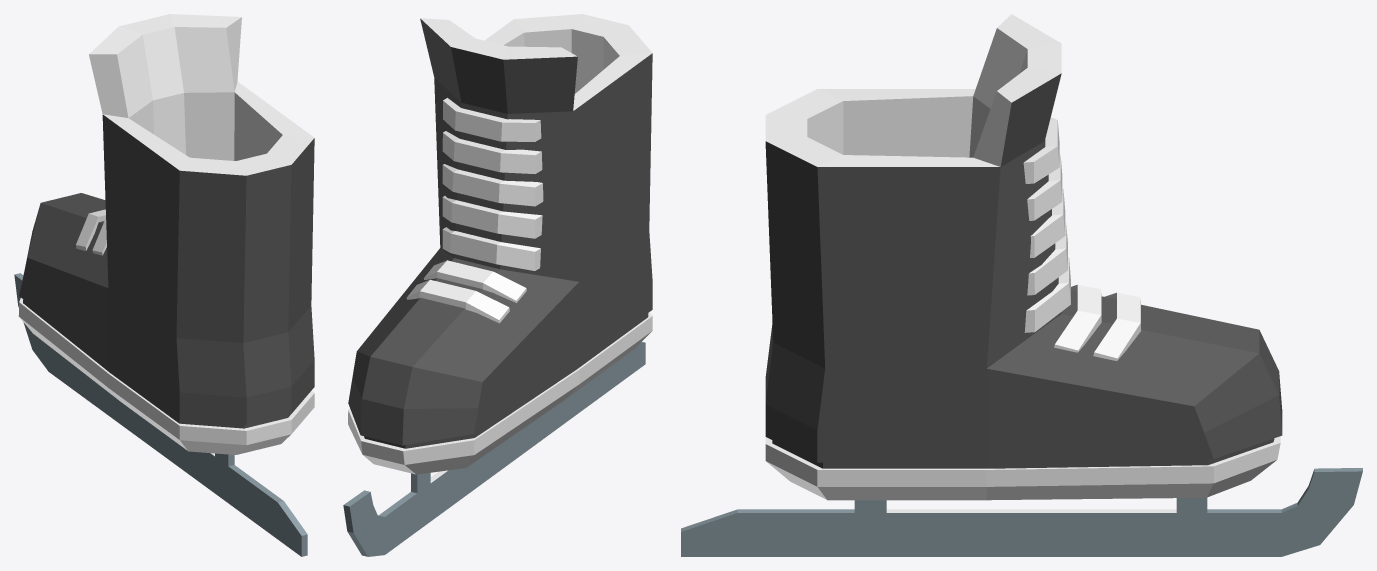
The model's file is Ice skate.glb.
The picture shows the model from 3 angles, left to right: view 1: azimuth 30°, elevation 25°; view 2: azimuth 150°, elevation 25°; view 3: azimuth 270°, elevation 25°; orthographic projection. The views are drawn at different scales.
Parts seen in each view (by area): view 1: Ice_Skate_Cube; view 2: Ice_Skate_Cube; view 3: Ice_Skate_Cube.
Boxes of the visible parts, x1,y1,x2,y2 form: Ice_Skate_Cube: (14, 14, 314, 556); Ice_Skate_Cube: (343, 14, 652, 556); Ice_Skate_Cube: (681, 14, 1362, 556).
Bounding box in the file's own units: 3.17 × 8.28 × 10.3.
